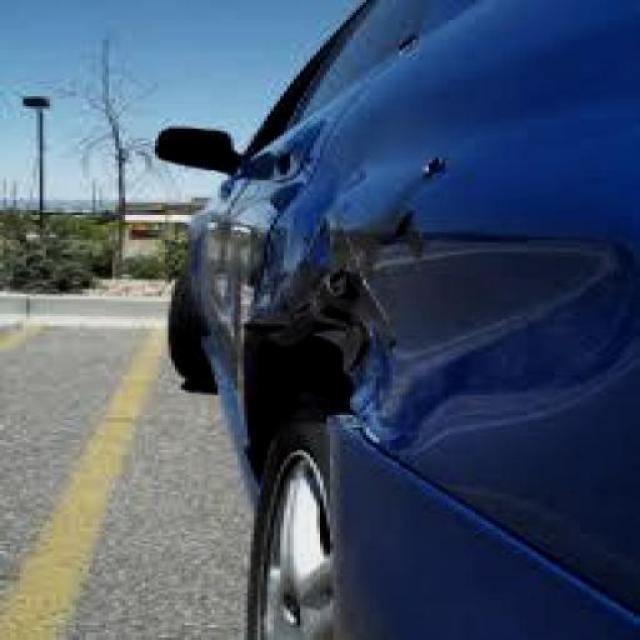car damage: (237, 219, 449, 462)
